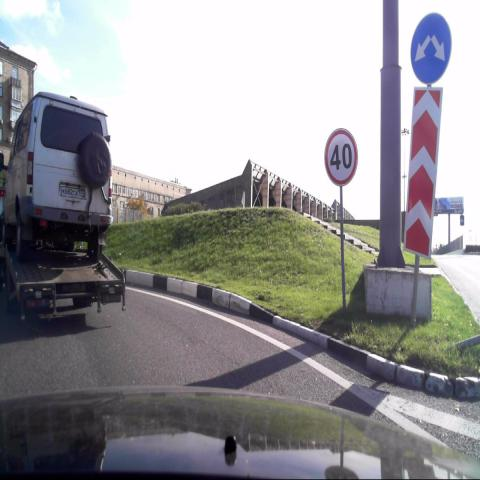3_24: (324, 127, 359, 186)
